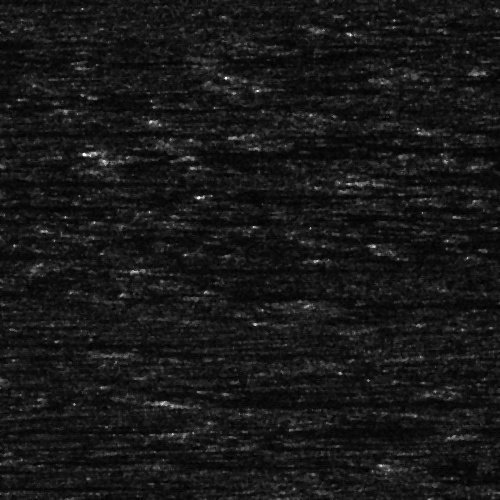shadow: (0, 175, 146, 186), (0, 204, 85, 207)
